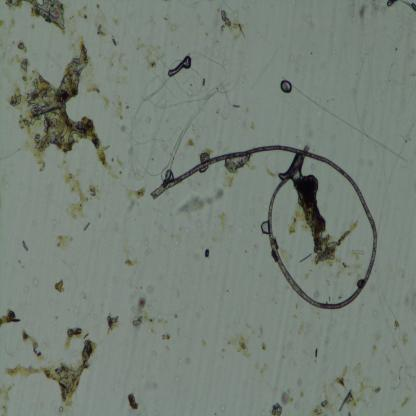Air bubble: (167, 56, 191, 76), (280, 80, 292, 95)
Background material: (6, 38, 122, 182), (0, 326, 97, 414), (292, 168, 359, 264), (312, 358, 381, 414), (57, 156, 103, 221), (3, 0, 67, 36), (128, 295, 171, 344), (173, 184, 228, 220), (92, 5, 121, 47), (218, 9, 247, 43), (16, 326, 43, 360), (226, 327, 254, 359), (134, 38, 164, 66), (281, 378, 304, 406), (100, 94, 124, 118), (224, 158, 255, 174), (54, 229, 74, 253), (122, 186, 147, 203), (386, 0, 416, 14), (0, 310, 22, 327), (106, 311, 121, 334), (355, 0, 370, 20), (126, 391, 140, 412), (53, 277, 67, 295), (258, 327, 267, 354), (18, 236, 31, 254), (269, 402, 285, 415), (260, 217, 270, 236), (296, 319, 307, 336), (390, 317, 400, 332), (400, 331, 410, 345), (126, 255, 136, 269), (206, 247, 210, 258)
Glass filter fibre: (282, 76, 409, 164), (161, 81, 225, 181), (130, 69, 171, 183), (394, 361, 402, 391)
Microfibre: (150, 143, 377, 310)
